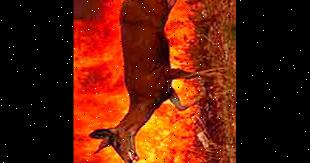fire: (163, 0, 222, 110), (153, 114, 224, 163)
